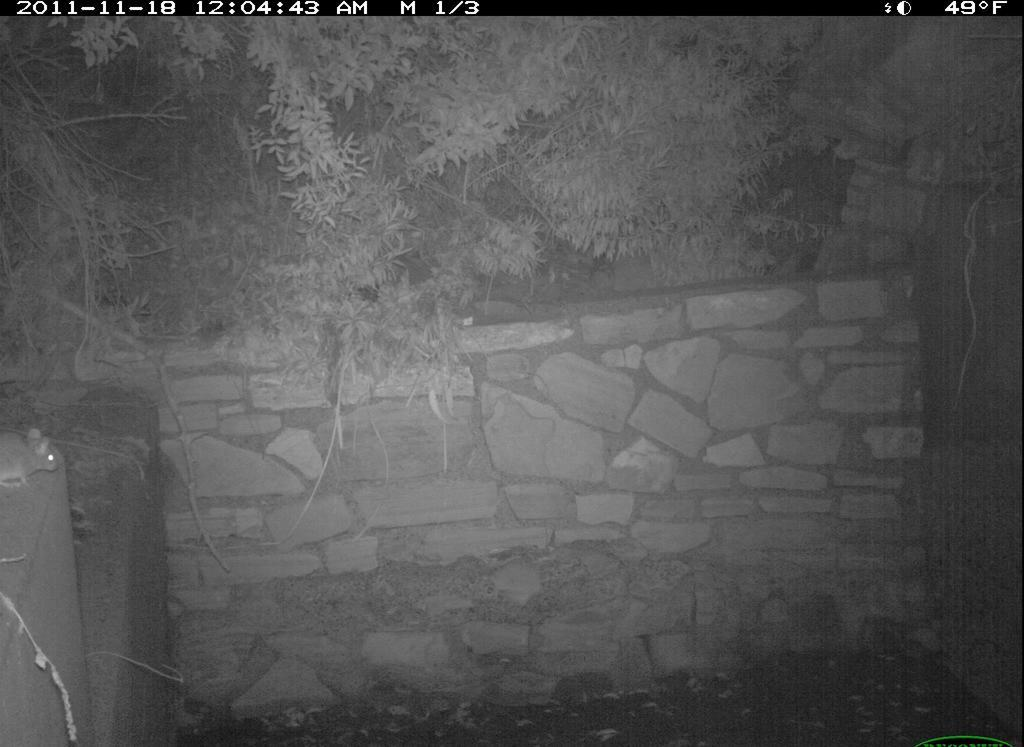rodent: (3, 421, 65, 492)
